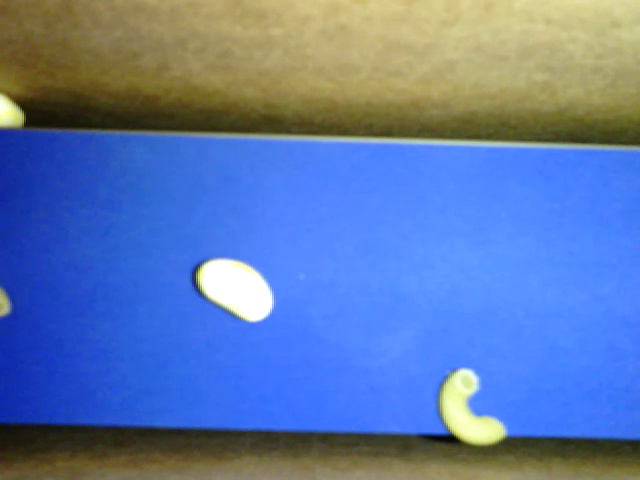elbow: (439, 367, 507, 444)
